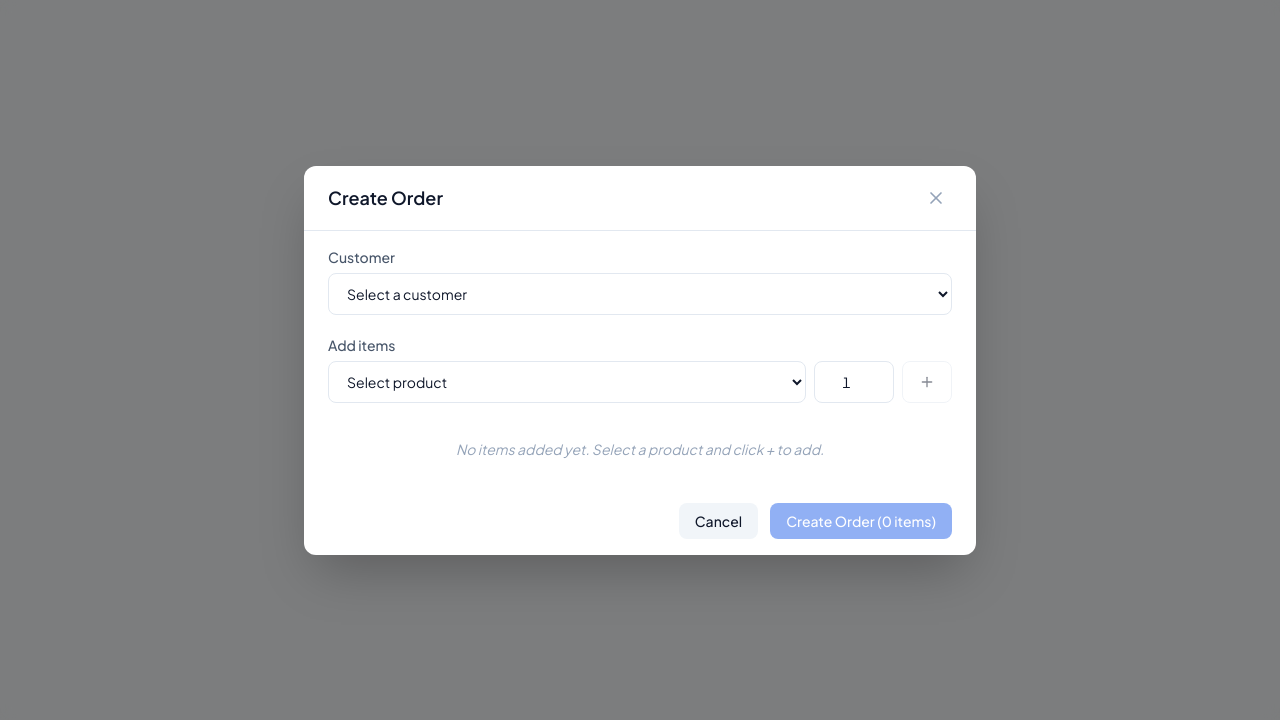
Scenario: CreateOrderModal › adds an item to the list after selecting a product and clicking Add
// Select a product from the second combobox (product select)
Select "Widget Pro ($29.99)" in the 2nd dropdown. click: (567, 382)
box: [328,360,806,402]
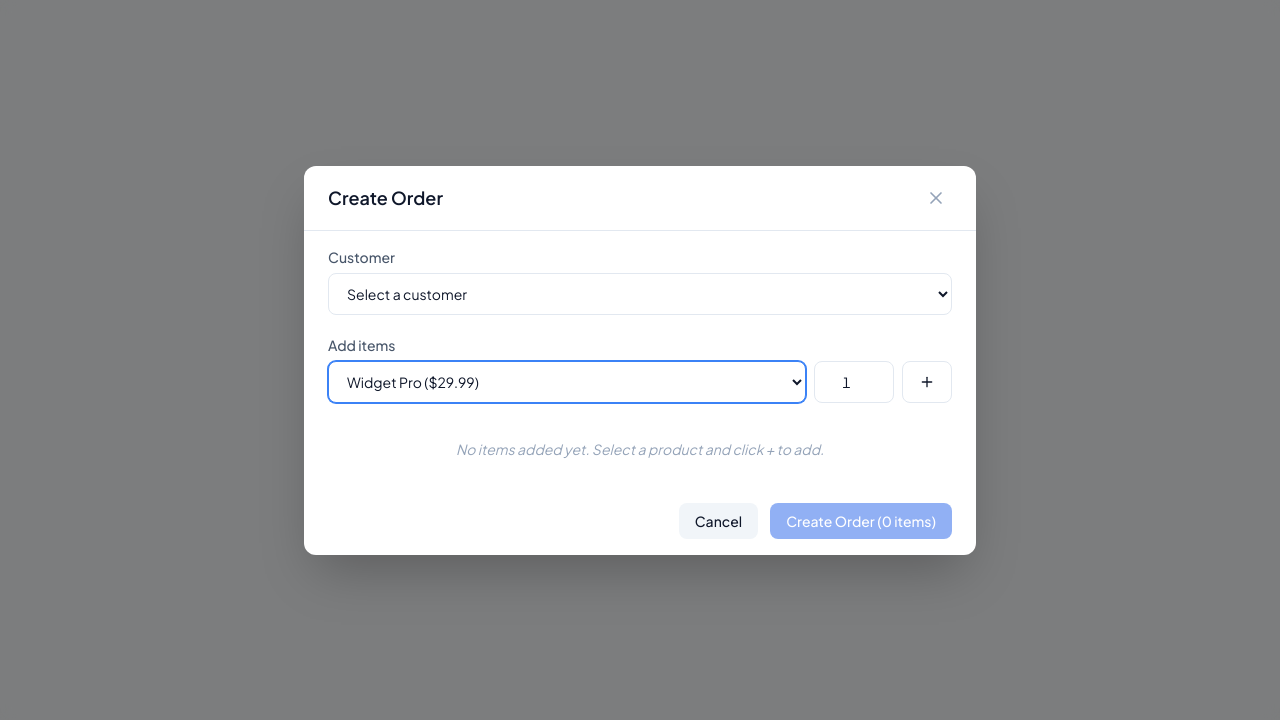
Click the 2nd button. click: click(927, 382)
box: [902,360,952,402]
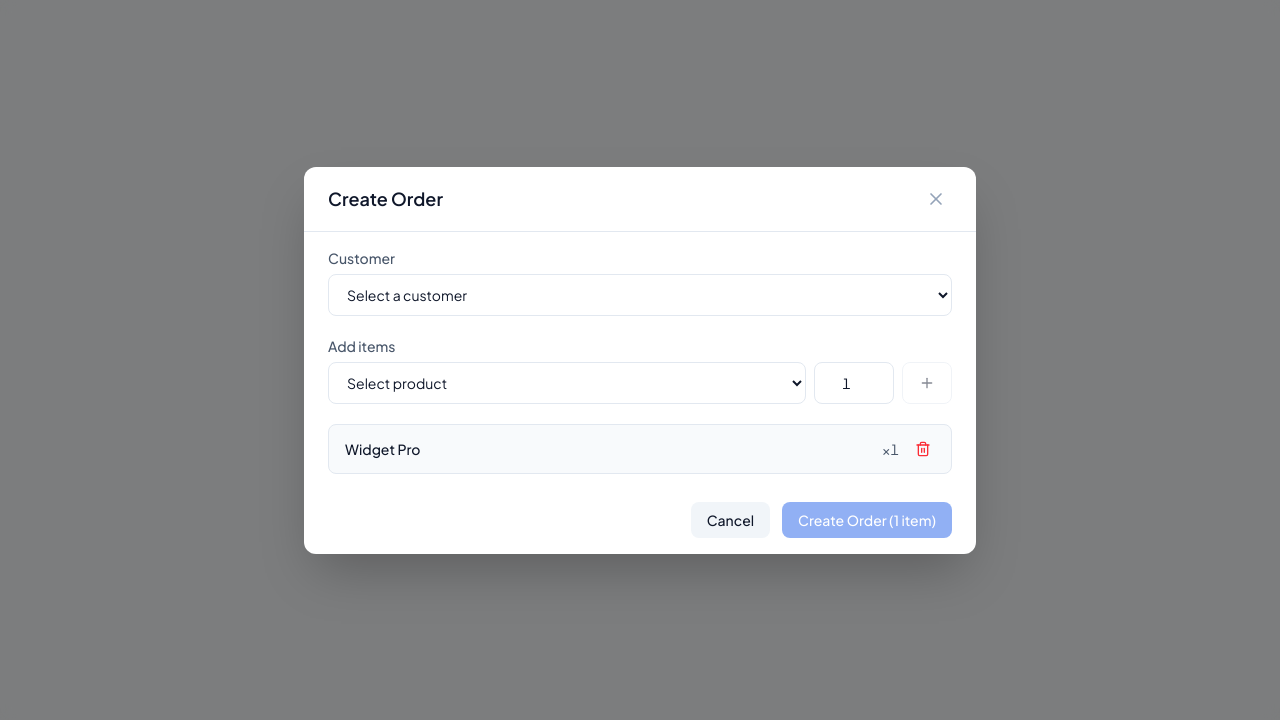
Result: the text "Widget Pro" is shown at [345,438,420,458]
